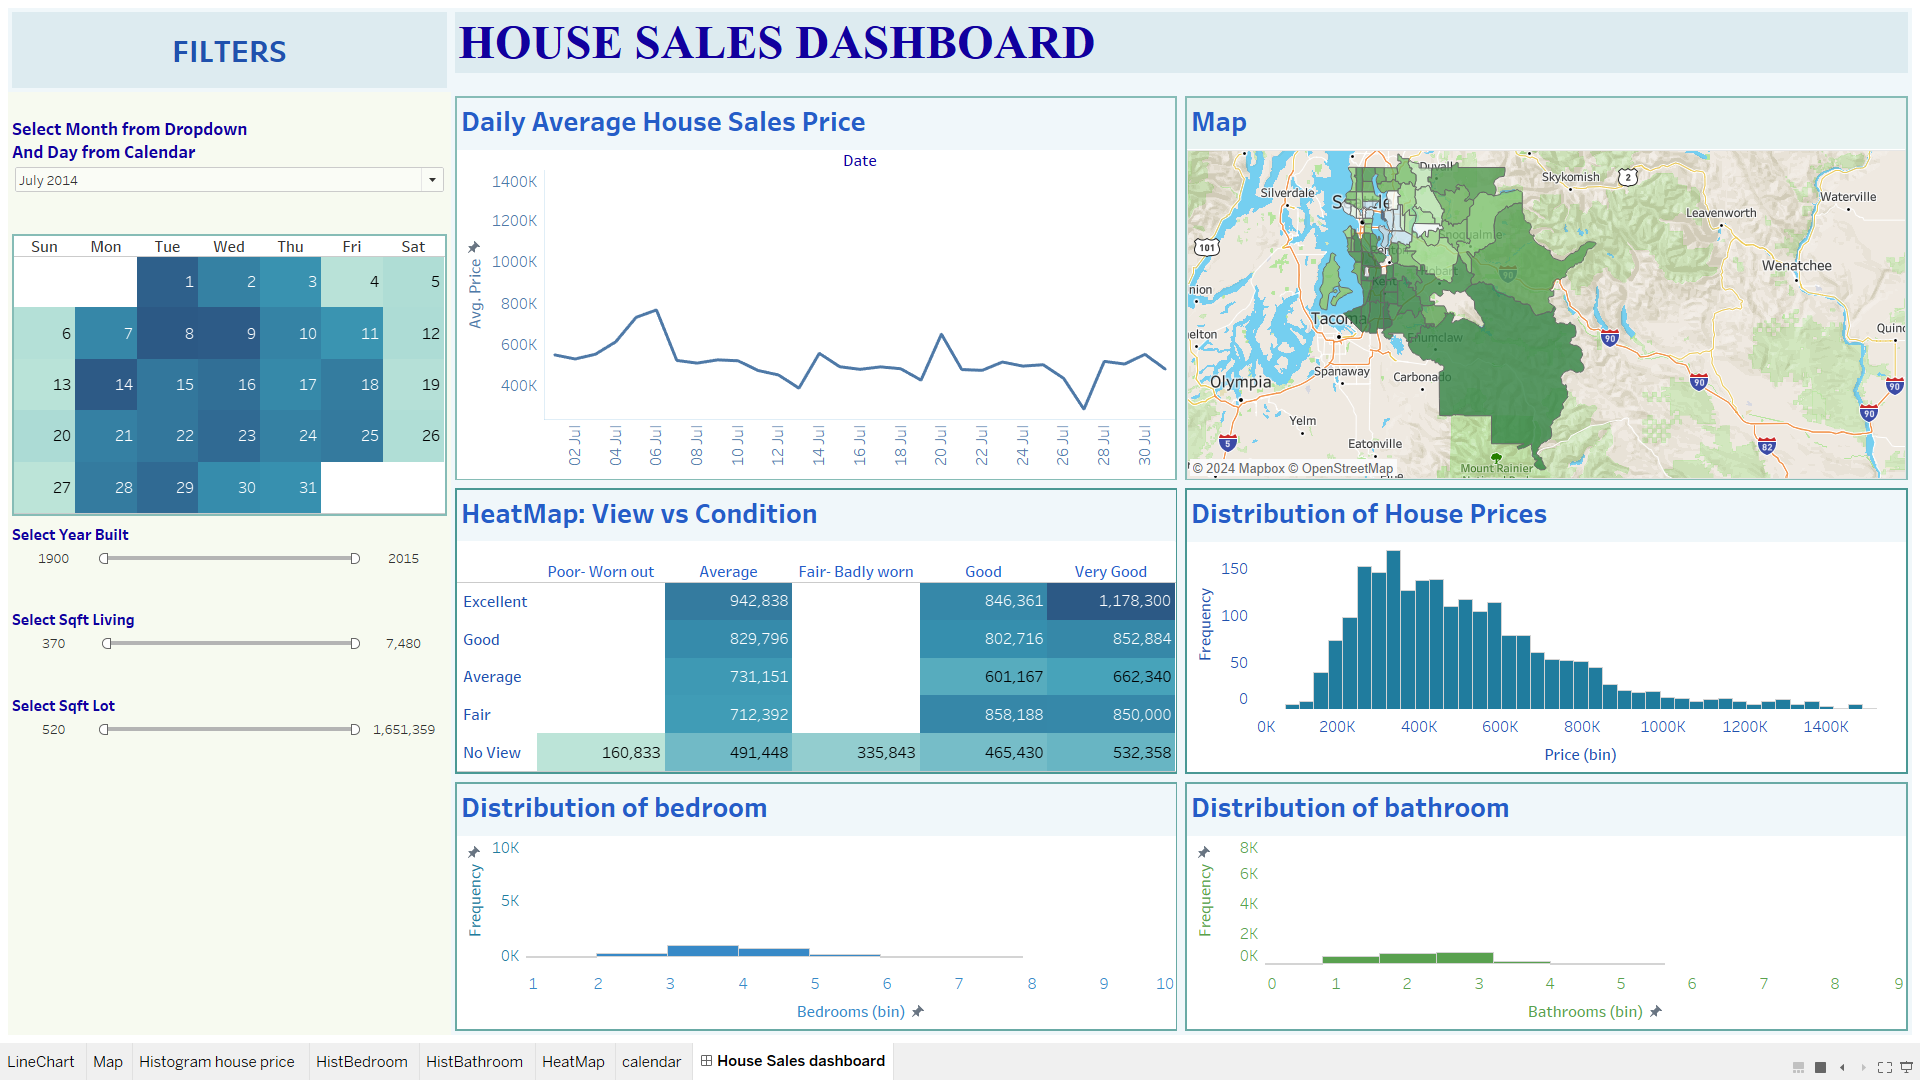

This screenshot's page, from the dashboard's own definition file:
{"tool":"tableau","page":{"name":"House Sales dashboard","canvas":[1000,1000],"units":"permille","ordinal":0},"visuals":[{"type":"text","box":[5.9,9.5,229.8,80.1]},{"type":"text","box":[235.7,9.5,758.5,80.1]},{"type":"filter","title":"calendar","param":"[federated.19q8c9g031hv1714q94x91wfc8gh].[my:date:ok]","box":[5.9,89.6,229.8,164.1]},{"type":"worksheet","title":"LineChart","mark":"Automatic","rows":["price"],"cols":["date"],"box":[235.7,89.6,379.1,375]},{"type":"worksheet","title":"Map","mark":"Automatic","box":[614.8,89.6,379.3,375]},{"type":"worksheet","title":"calendar","mark":"Square","rows":["date"],"cols":["date"],"box":[5.9,253.7,229.8,344.8]},{"type":"worksheet","title":"HeatMap","mark":"Square","rows":["view"],"cols":["condition"],"box":[235.7,464.6,379.2,280.7]},{"type":"worksheet","title":"Histogram house price","mark":"Automatic","rows":["price"],"cols":["Price (bin)"],"box":[614.9,464.6,379.2,280.7]},{"type":"filter","title":"calendar","param":"[federated.19q8c9g031hv1714q94x91wfc8gh].[none:yr_built:qk]","box":[5.9,598.5,229.8,101.1]},{"type":"filter","title":"calendar","param":"[federated.19q8c9g031hv1714q94x91wfc8gh].[none:sqft_living:qk]","box":[5.9,699.6,229.8,102.3]},{"type":"worksheet","title":"HistBedroom","mark":"Automatic","rows":["bedrooms"],"cols":["Bedrooms (bin)"],"box":[235.7,745.2,379.2,245.2]},{"type":"worksheet","title":"HistBathroom","mark":"Automatic","rows":["bathrooms"],"cols":["Bathrooms (bin)"],"box":[614.9,745.2,379.2,245.2]},{"type":"filter","title":"calendar","param":"[federated.19q8c9g031hv1714q94x91wfc8gh].[none:sqft_lot:qk]","box":[5.9,801.9,229.8,102.3]}]}

Visuals, with their boxes on the dashboard's canvas, which has no fixed pixel size, in thousandths of its width and height (x1, y1, x2, y2). These are canvas units, not pixel positions in the 1920x1080 screenshot, which may show the page scaled, cropped or inside an application window:
text: BBox(6, 10, 236, 90)
text: BBox(236, 10, 994, 90)
"calendar" filter: BBox(6, 90, 236, 254)
"LineChart" worksheet: BBox(236, 90, 615, 465)
"Map" worksheet: BBox(615, 90, 994, 465)
"calendar" worksheet (Square marks): BBox(6, 254, 236, 598)
"HeatMap" worksheet (Square marks): BBox(236, 465, 615, 745)
"Histogram house price" worksheet: BBox(615, 465, 994, 745)
"calendar" filter: BBox(6, 598, 236, 700)
"calendar" filter: BBox(6, 700, 236, 802)
"HistBedroom" worksheet: BBox(236, 745, 615, 990)
"HistBathroom" worksheet: BBox(615, 745, 994, 990)
"calendar" filter: BBox(6, 802, 236, 904)
